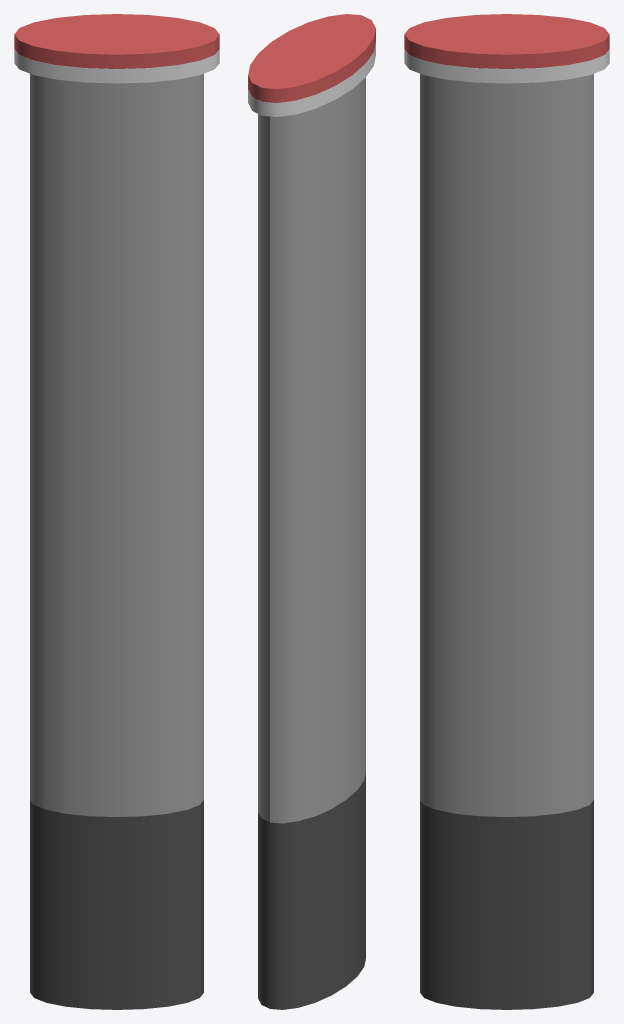
The model's file is Pillarfixed_ruangan1.fbx.
3 views of the same model, side by side, from view 1: azimuth 90°, elevation 25°; view 2: azimuth 150°, elevation 25°; view 3: azimuth 270°, elevation 25° (orthographic). The views are drawn at different scales.
Visible parts, largest first — view 1: pCylinder2, pCylinder1, pCylinder5, pCylinder3; view 2: pCylinder2, pCylinder1, pCylinder4, pCylinder5, pCylinder3; view 3: pCylinder4, pCylinder1, pCylinder5, pCylinder3.
Part boxes in pixels (x1,y1,x2,y2): pCylinder2: [30, 74, 203, 816]; pCylinder1: [30, 800, 203, 1009]; pCylinder5: [14, 14, 219, 68]; pCylinder3: [14, 49, 219, 83]; pCylinder2: [270, 77, 365, 823]; pCylinder1: [258, 773, 365, 1009]; pCylinder4: [258, 114, 269, 821]; pCylinder5: [248, 14, 375, 102]; pCylinder3: [248, 42, 375, 116]; pCylinder4: [420, 74, 593, 816]; pCylinder1: [420, 800, 593, 1009]; pCylinder5: [404, 14, 609, 68]; pCylinder3: [404, 49, 609, 83].
Size of the model in its own units: 0.4327 by 4.75 by 0.9224.
